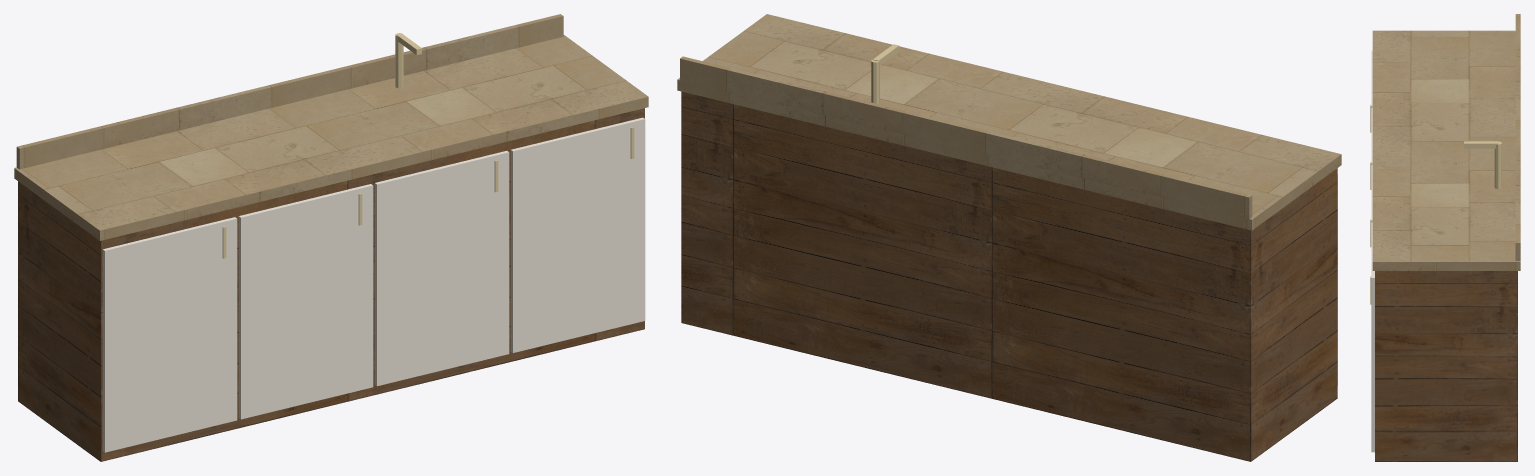
The model's file is bancada_pia_220.glb.
3 renders of one model, left to right at view 1: azimuth 30°, elevation 25°; view 2: azimuth 150°, elevation 25°; view 3: azimuth 270°, elevation 25°, orthographic. The views are drawn at different scales.
Visible parts, largest first — view 1: bancada_pia_220; view 2: bancada_pia_220; view 3: bancada_pia_220.
Boxes of the visible parts, box(x1,y1,x2,y2) form: bancada_pia_220: box(14, 14, 648, 461); bancada_pia_220: box(677, 14, 1341, 461); bancada_pia_220: box(1370, 14, 1520, 461).
Bounding box in the file's own units: 2.22 × 1.1 × 0.609.
5 materials, 2 textured.
